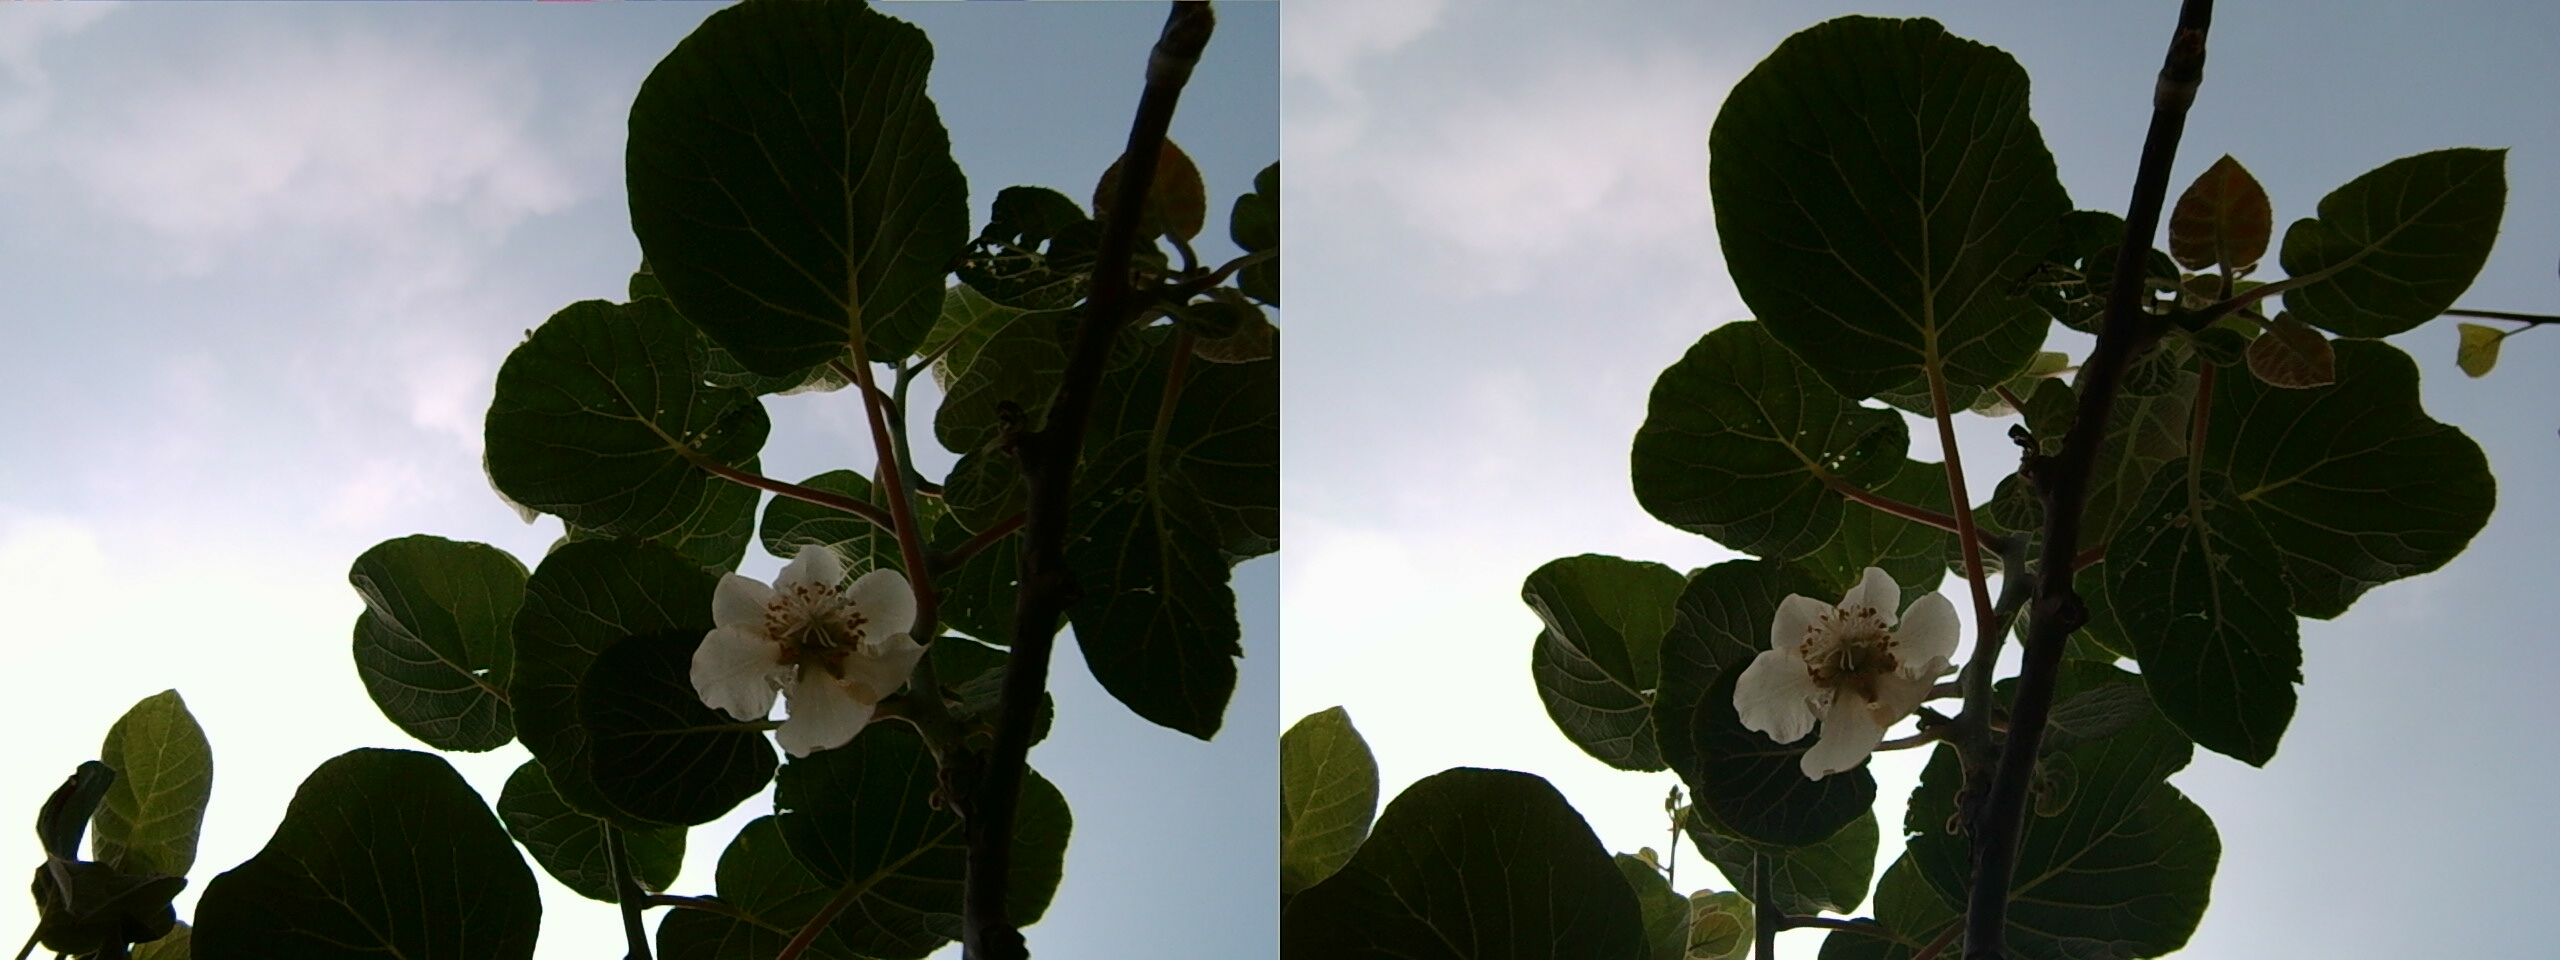flower: (692, 532, 931, 740), (1729, 563, 1961, 756)
